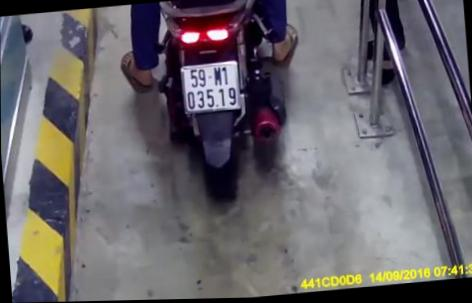LP: (178, 60, 242, 115)
